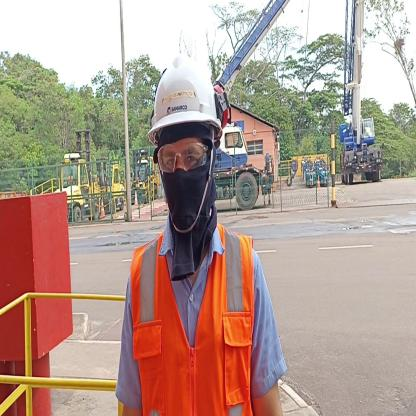C_eletrica: (158, 130, 218, 234)
Capacete: (152, 53, 221, 126)
colete: (134, 240, 252, 416)
